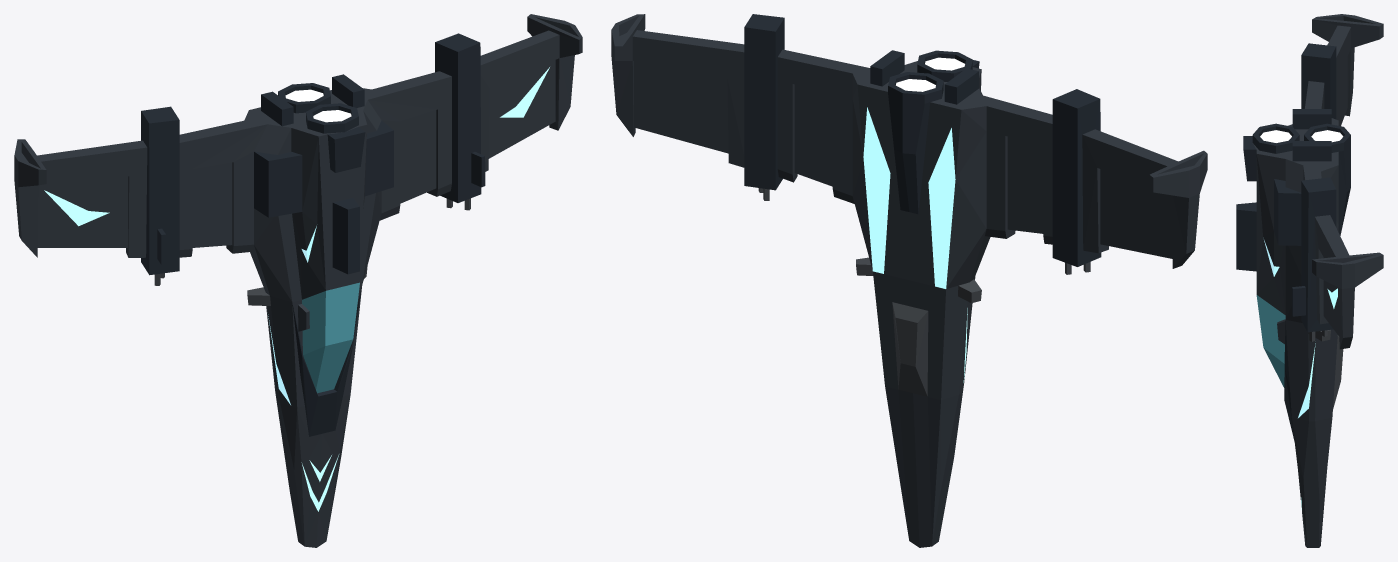
Rendered from Ship.glb.
The picture shows the model from 3 angles, left to right: view 1: azimuth 30°, elevation 25°; view 2: azimuth 150°, elevation 25°; view 3: azimuth 270°, elevation 25°; orthographic projection. The views are drawn at different scales.
Visible parts, largest first — view 1: Renault; view 2: Renault; view 3: Renault.
Boxes of the visible parts, x1=… form: Renault: x1=14, y1=14, x2=582, y2=547; Renault: x1=611, y1=14, x2=1207, y2=547; Renault: x1=1236, y1=14, x2=1383, y2=547.
Size of the model in its own units: 11.24 by 8.94 by 2.79.
